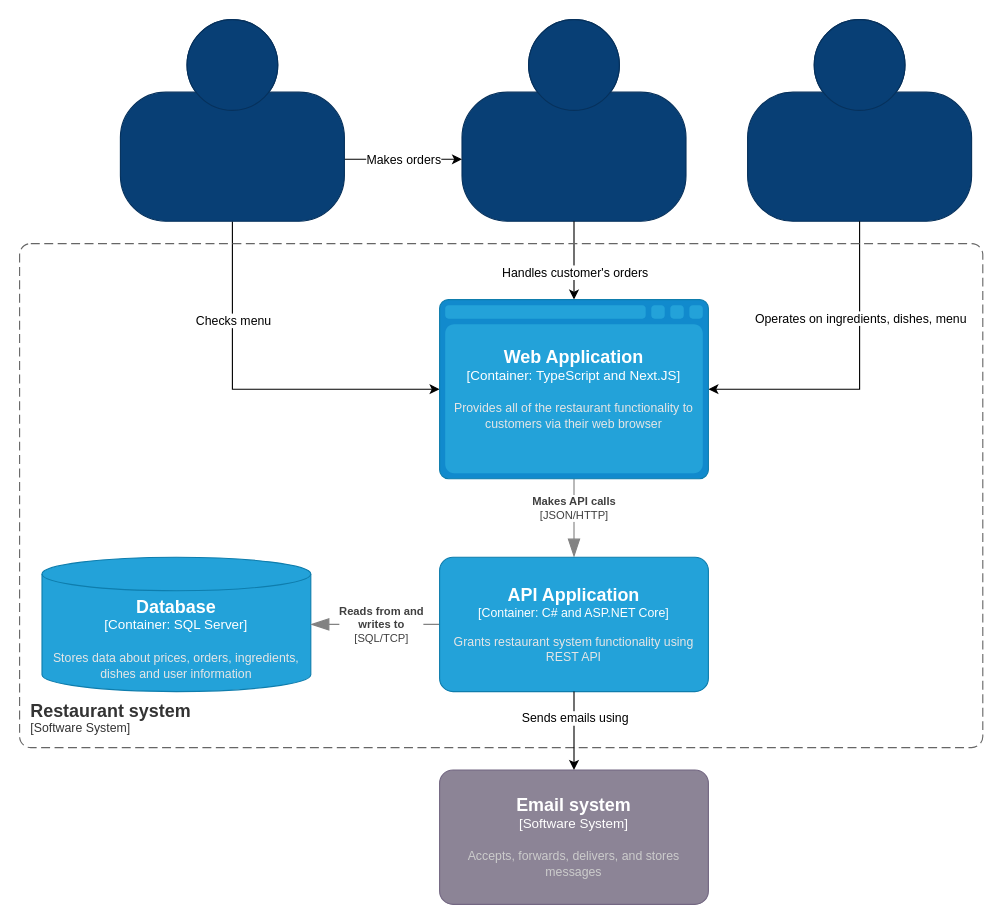
Image size: 1002x924. Some labels were removed from this diagram. The centre of each missing label's shape, as x and y in pixels:
"Admin [Person] Manages restaurant system" goes at (x=859, y=119).
"Customer [Person] Makes orders to the Waiter" goes at (x=231, y=119).
"Waiter [Person] Handles customer orders" goes at (x=573, y=119).
